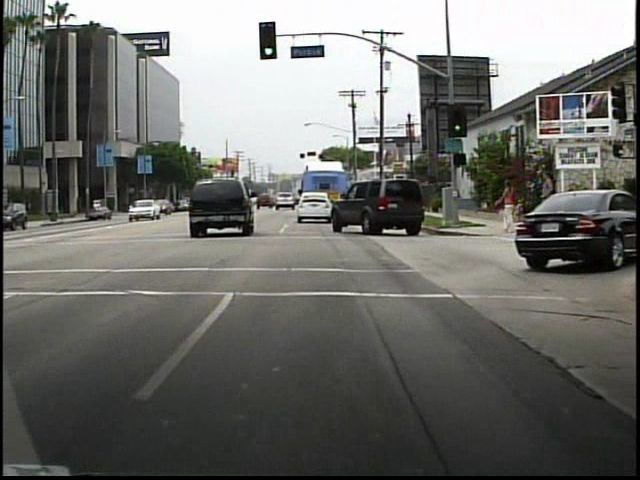person: (491, 175, 524, 240), (532, 168, 559, 228)
